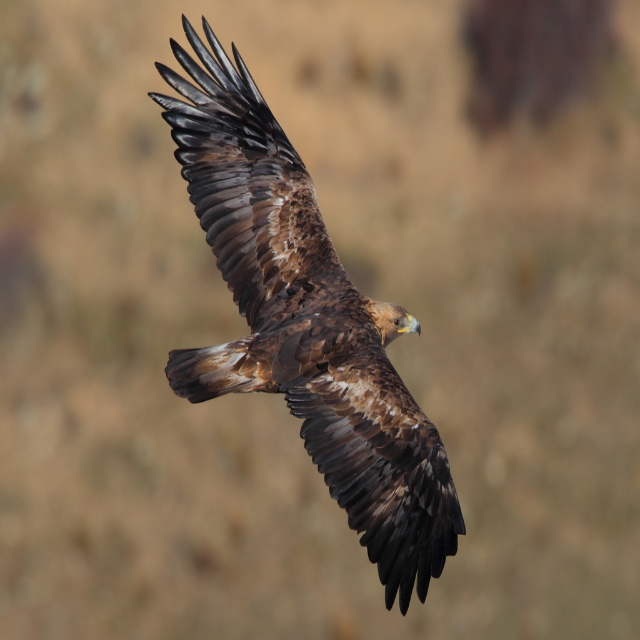Eagle: (148, 13, 466, 616)
